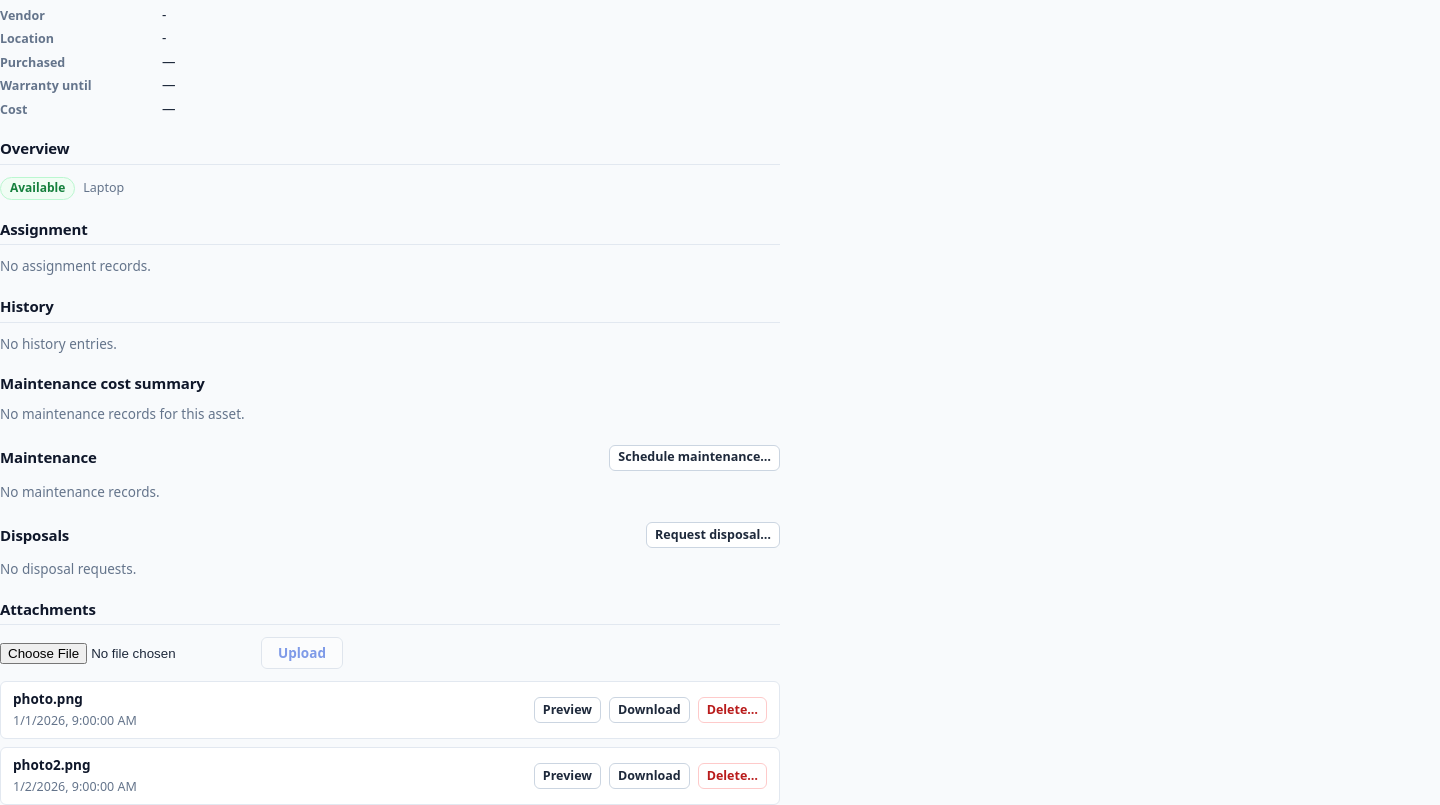
Test case: AssetDetail object URL lifecycle › revokes the preview URL when the preview is closed
This screenshot has width=1440, height=805.
(page scrolled)
Expected: the text "photo.png" is shown, [13, 690, 83, 708]
Click the button with aria-label "Preview photo.png" at (567, 710), box [534, 697, 601, 723]
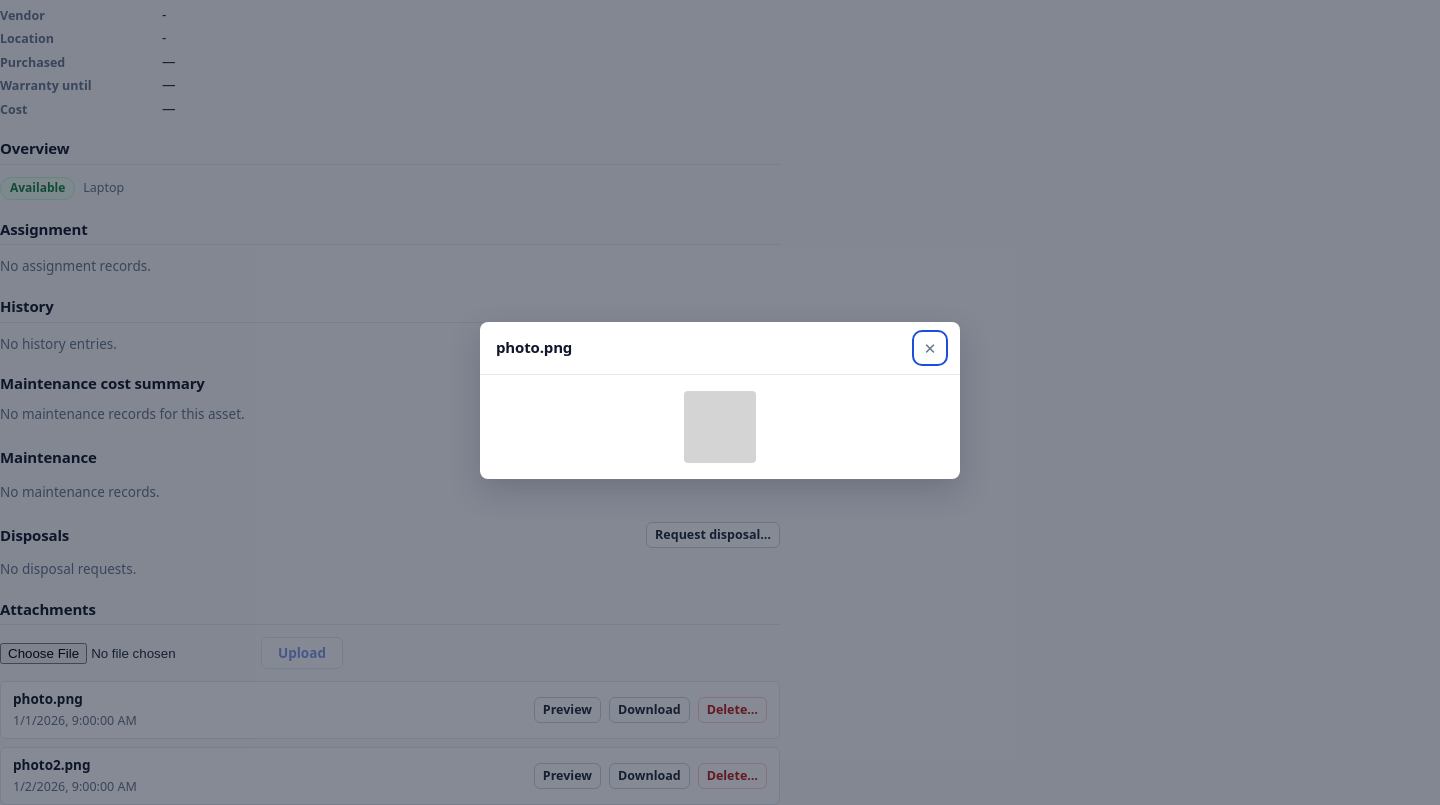
Click the button named "Close" at (930, 348), box [916, 334, 944, 362]
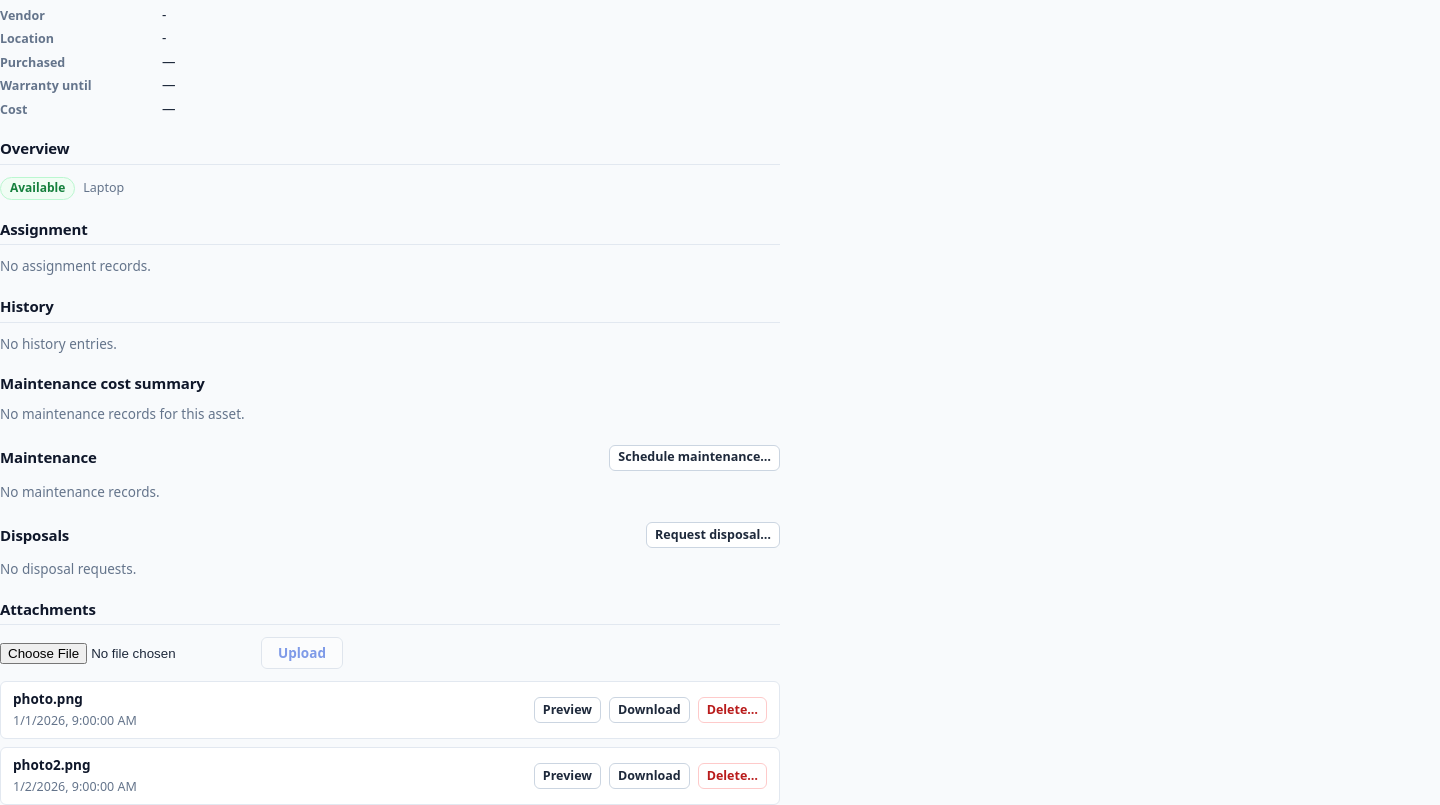
Result: the picture is gone
